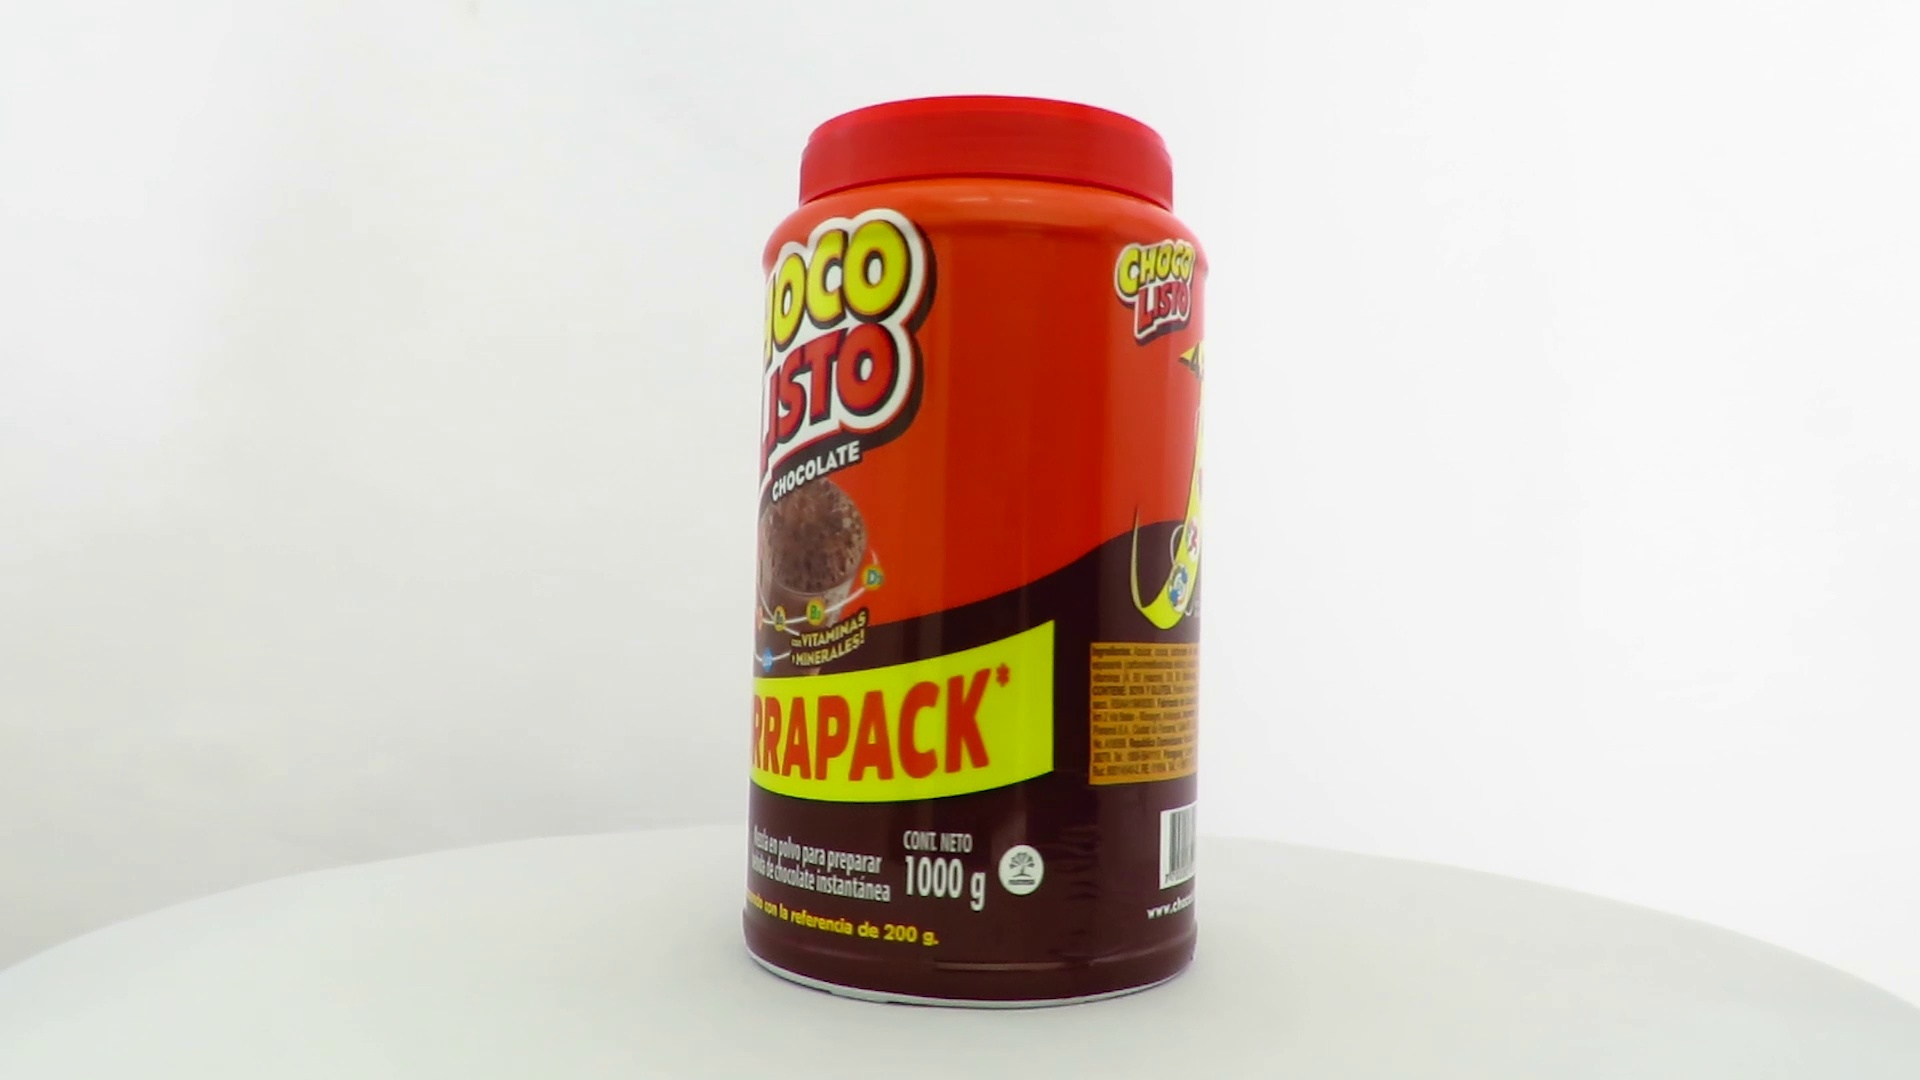COL0170103TRR00100: (736, 90, 1215, 1017)
